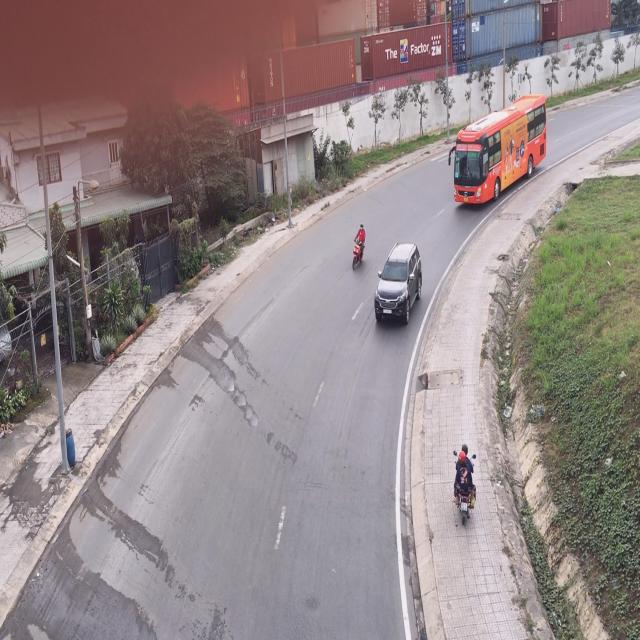bus: (450, 94, 548, 212)
car: (371, 244, 420, 328)
motorbike: (456, 446, 479, 528), (350, 223, 367, 275)
